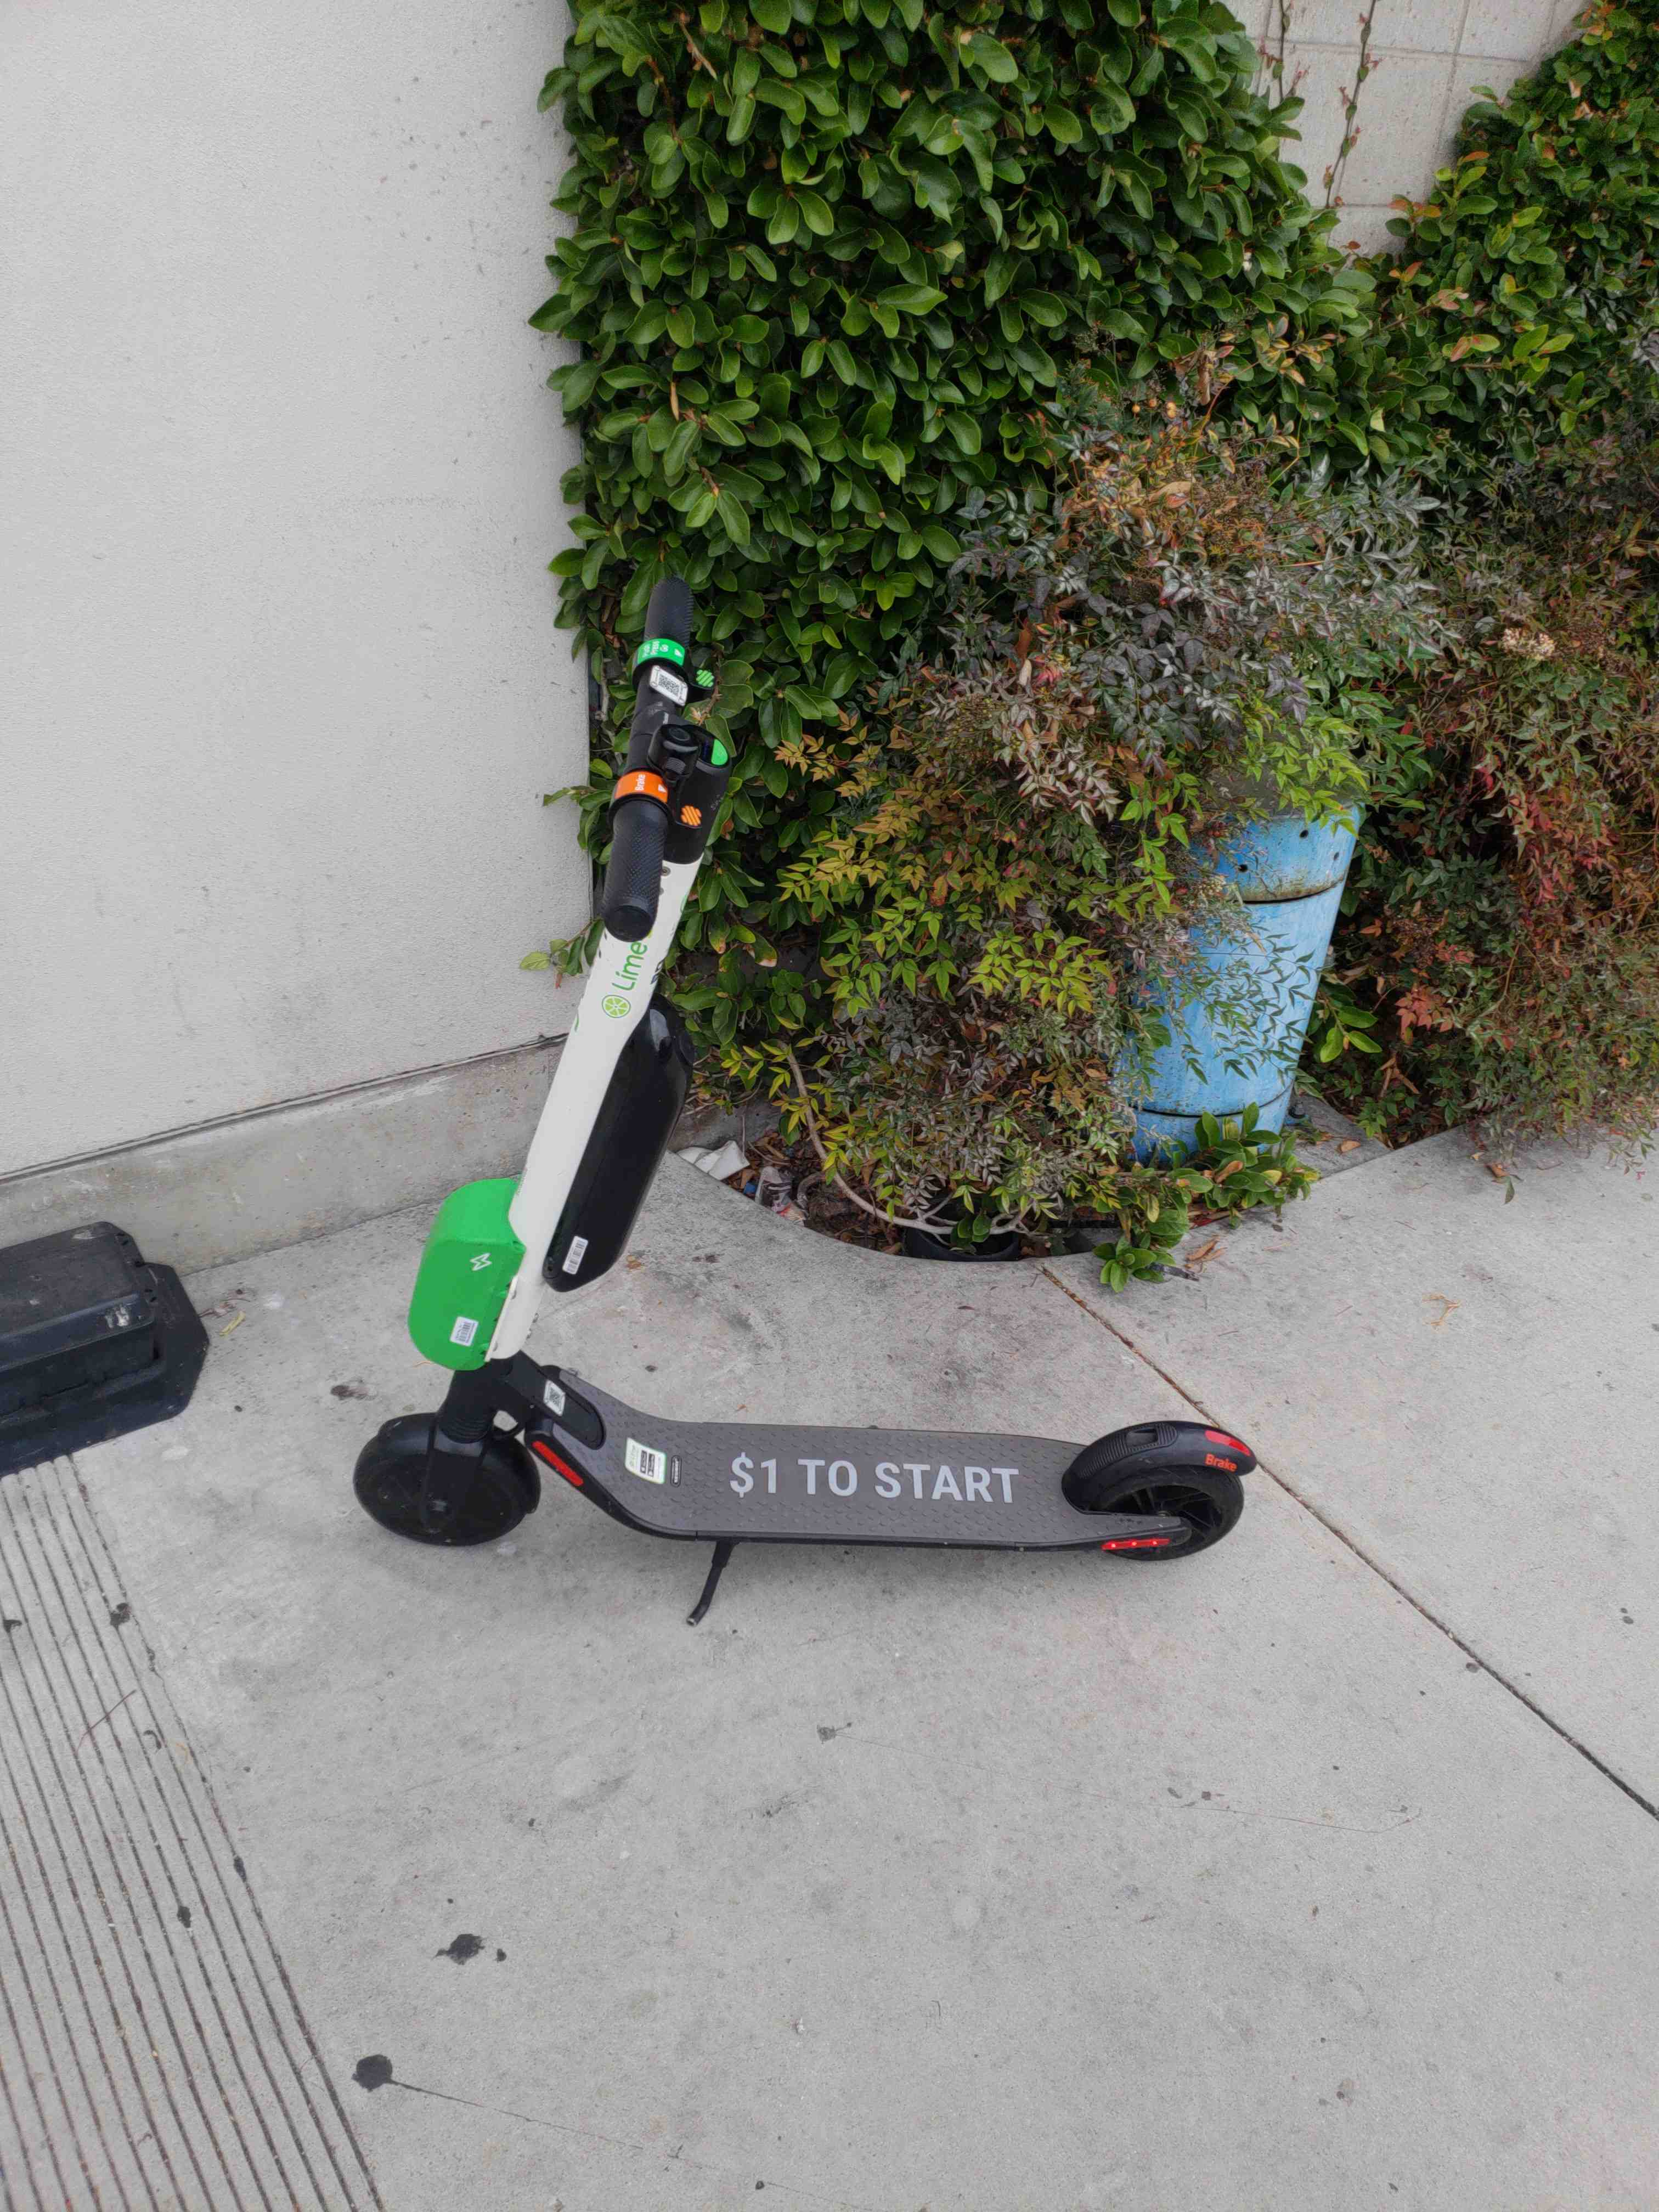scooter: (361, 543, 1276, 1608)
